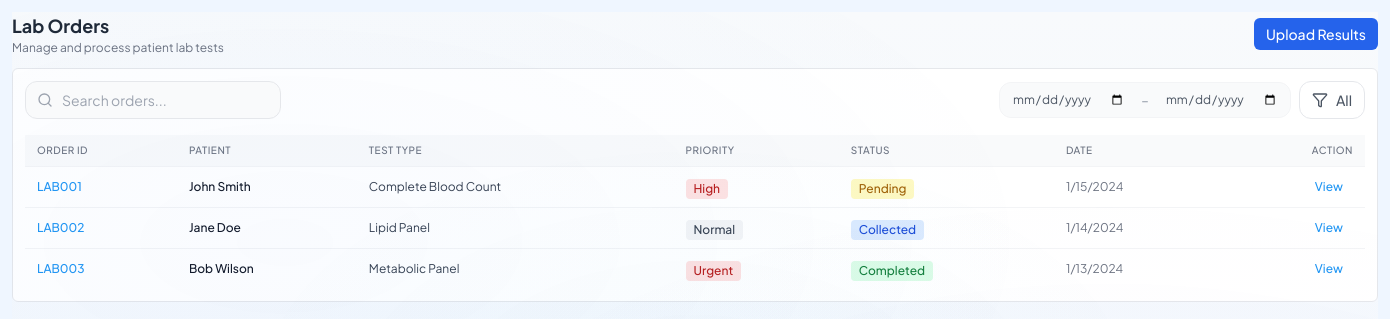
Scenario: Lab Orders Page › filters orders by status
This screenshot has width=1390, height=319.
Expected: the text "John Smith" is shown, [189,179,251,194]
Click the button "All" at (1332, 100), box [1299,81,1365,119]
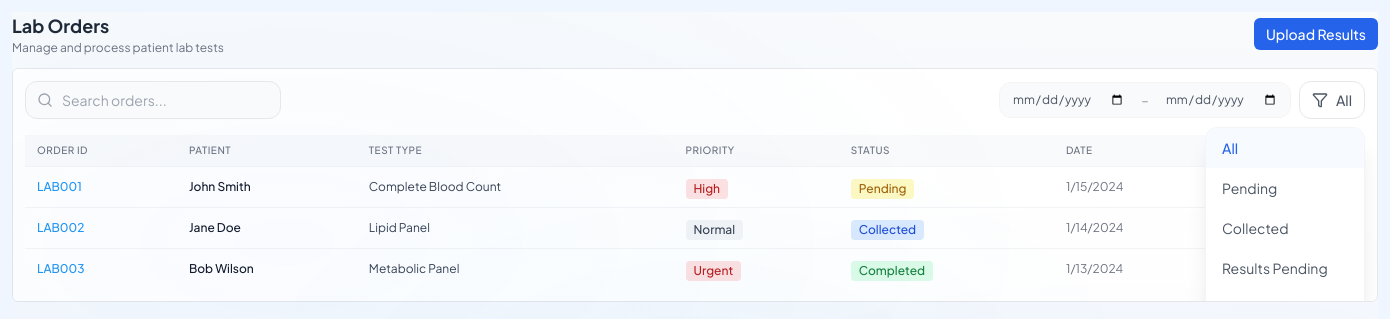
Click the button "Pending" at (1285, 188), box [1206,168,1364,208]
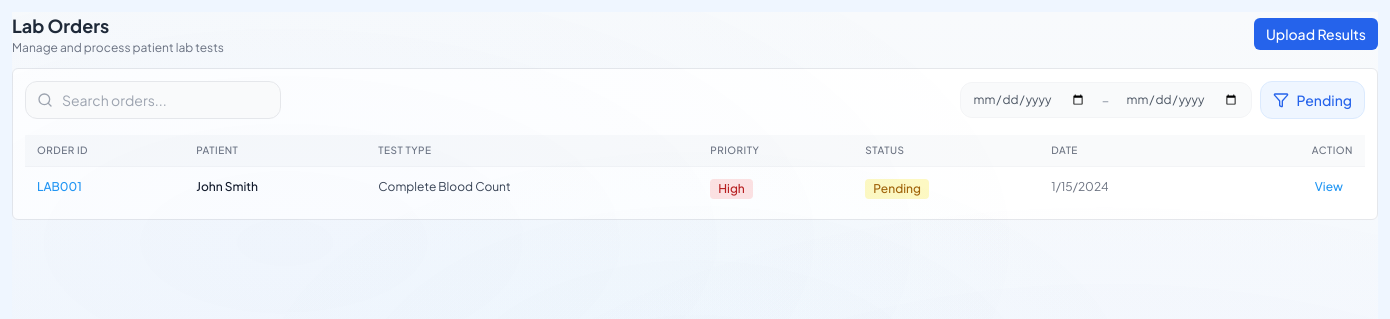
Expected: the text "John Smith" is shown, [196,179,258,194]
Now the text "Jane Doe" is gone
Now the text "Bob Wilson" is gone
